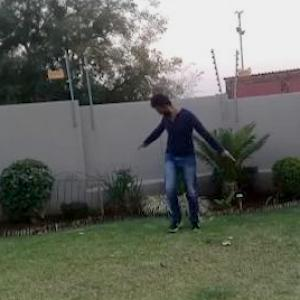land: (113, 80, 231, 250)
